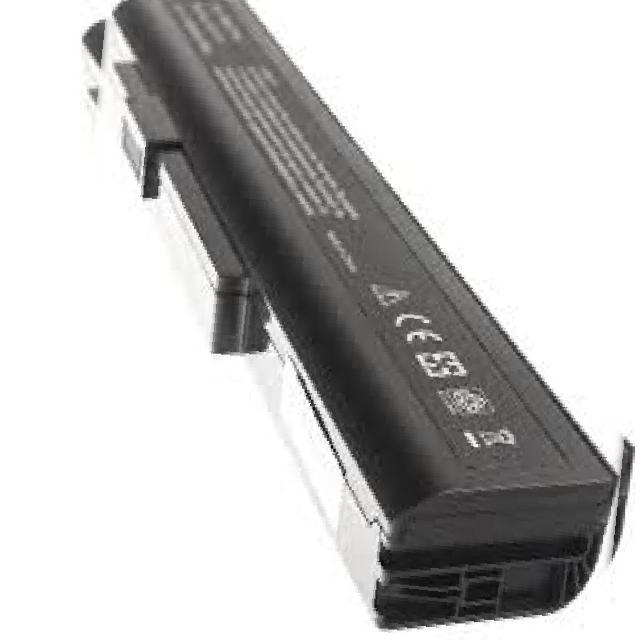Battery: (74, 0, 640, 638)
